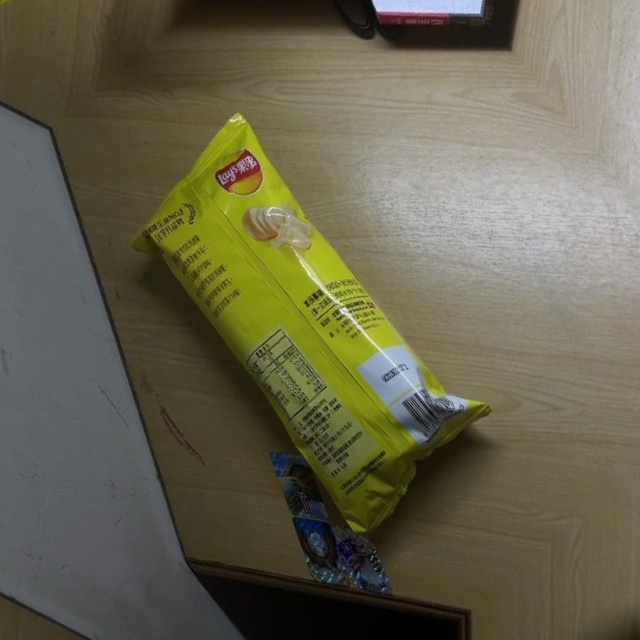Lay-s-original: (96, 107, 503, 540)
